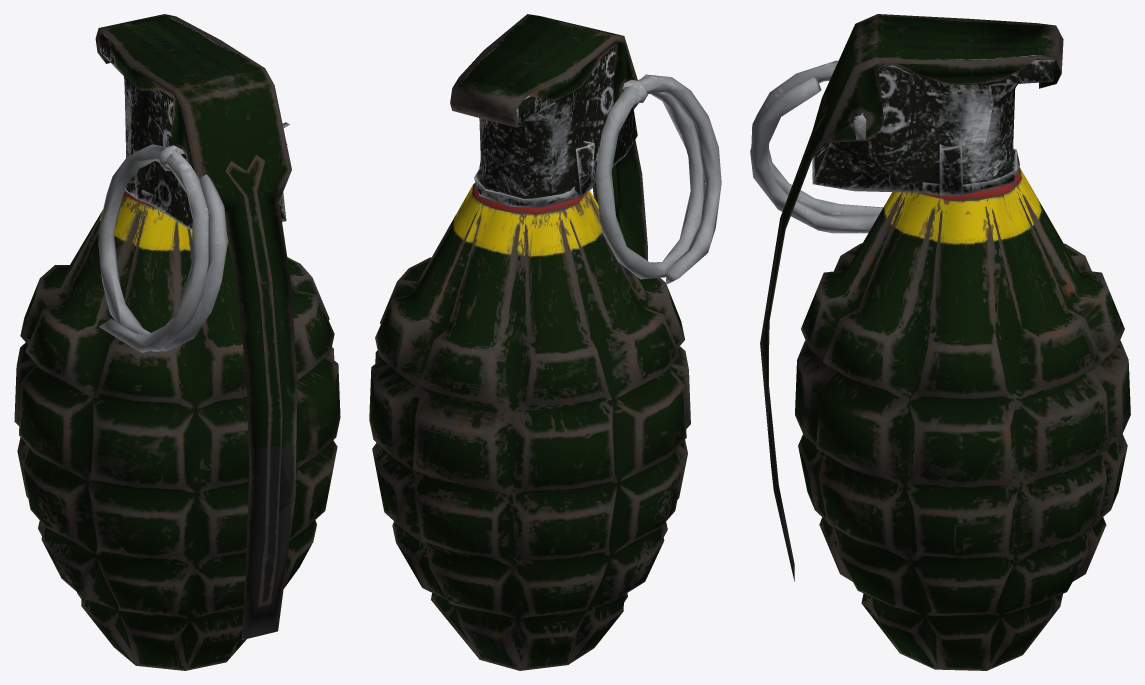
File: grenade.glb
3 views of the same model, side by side, from view 1: azimuth 30°, elevation 25°; view 2: azimuth 150°, elevation 25°; view 3: azimuth 270°, elevation 25° (orthographic). The views are drawn at different scales.
Parts seen in each view (by area): view 1: e_low; view 2: e_low; view 3: e_low.
Part boxes in pixels (x1,y1,x2,y2): e_low: (14, 14, 340, 670); e_low: (369, 14, 721, 670); e_low: (750, 14, 1130, 670).
Size of the model in its own units: 115 by 229 by 130.
Materials: 1 (1 with a texture image).
